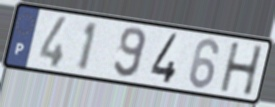1: (77, 21, 100, 73)
4: (37, 14, 70, 70), (149, 32, 181, 85)
6: (187, 37, 221, 91)
9: (112, 25, 147, 80)
H: (218, 41, 265, 97)
